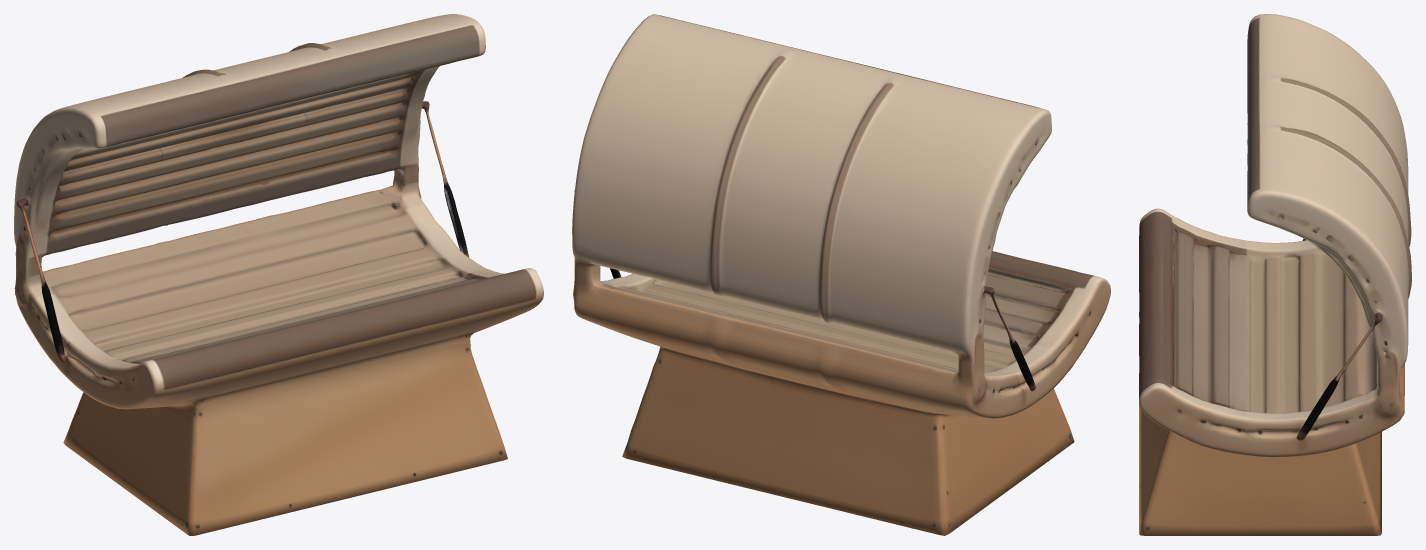
The model's file is UBody-Collagen-Bed-2.glb.
3 views of the same model, side by side, from view 1: azimuth 30°, elevation 25°; view 2: azimuth 150°, elevation 25°; view 3: azimuth 270°, elevation 25° (orthographic). The views are drawn at different scales.
Visible parts, largest first — view 1: model; view 2: model; view 3: model.
Boxes of the visible parts, left/top/right/bottom form: model: left=14, top=14, right=543, bottom=535; model: left=572, top=14, right=1110, bottom=535; model: left=1139, top=14, right=1411, bottom=535.
Size of the model in its own units: 1.9 by 1.69 by 1.16.
Materials: 1 (1 with a texture image).
